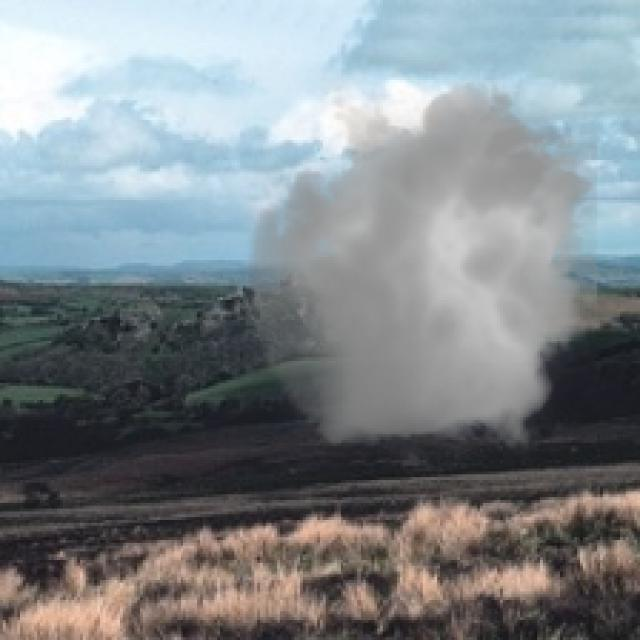smoke: (235, 68, 614, 466)
